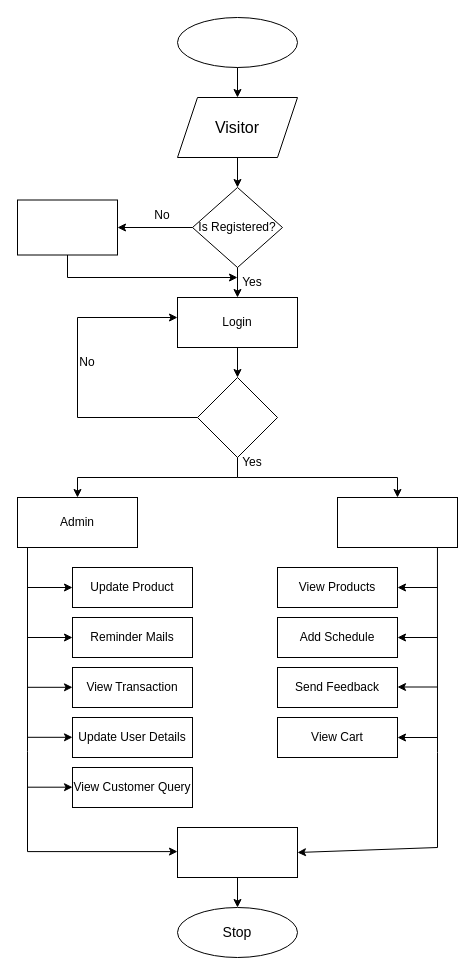
Some shapes in this 475 by 975 pixel diagram are drawn without their labels. Each missing label, with the box of its shape:
Is Valid: (196, 376, 278, 458)
Logout: (176, 826, 298, 878)
Register: (16, 199, 118, 255)
Start: (176, 16, 298, 68)
User: (336, 496, 458, 548)
